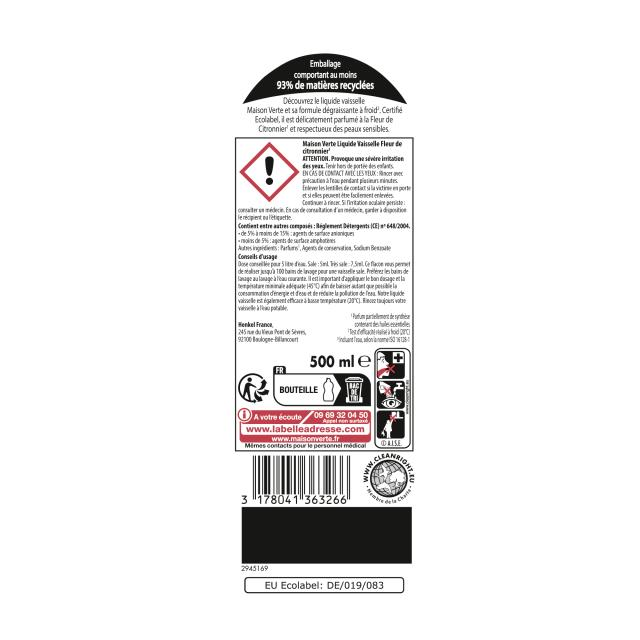GHS_Symbol_EXCLAMATION_MARK: (242, 142, 299, 202)
